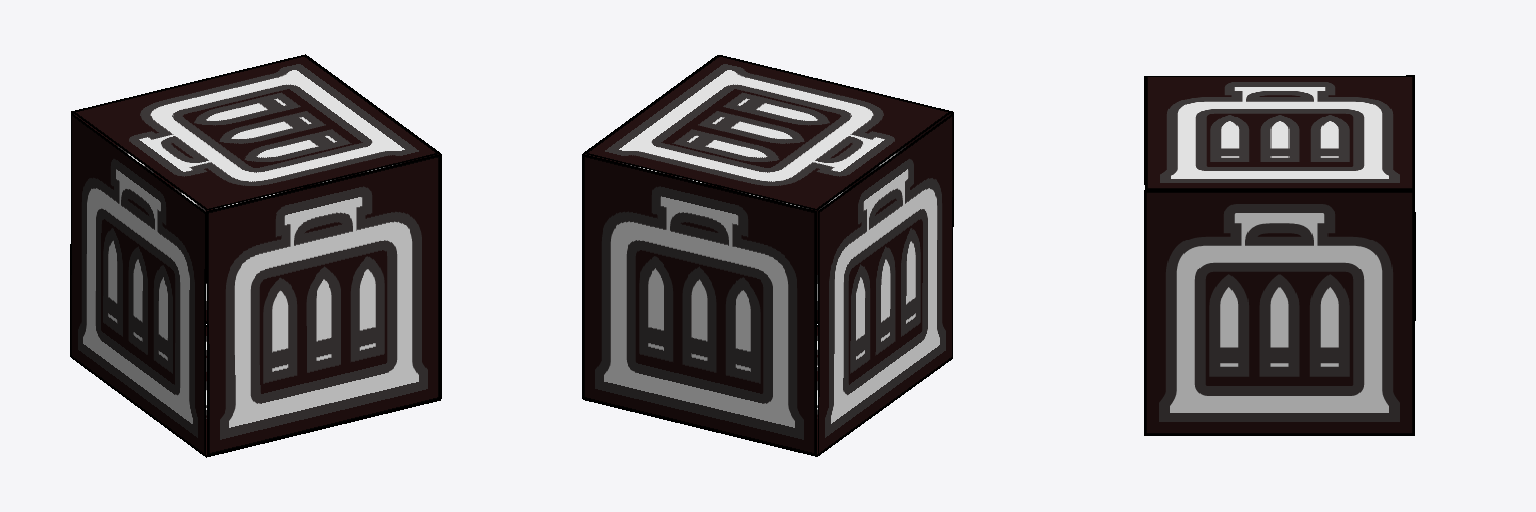
3 views of the same model, side by side, from view 1: azimuth 30°, elevation 25°; view 2: azimuth 150°, elevation 25°; view 3: azimuth 270°, elevation 25° (orthographic).
Parts seen in each view (by area): view 1: Cube; view 2: Cube; view 3: Cube.
Part boxes in pixels (left/top/right/bottom): Cube: left=70, top=54, right=441, bottom=457; Cube: left=582, top=55, right=953, bottom=456; Cube: left=1144, top=75, right=1415, bottom=435.
Size of the model in its own units: 2 by 2 by 2.
Materials: 1 (1 with a texture image).